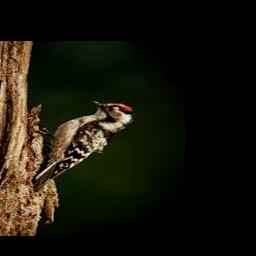Woodpecker: (34, 100, 135, 190)
